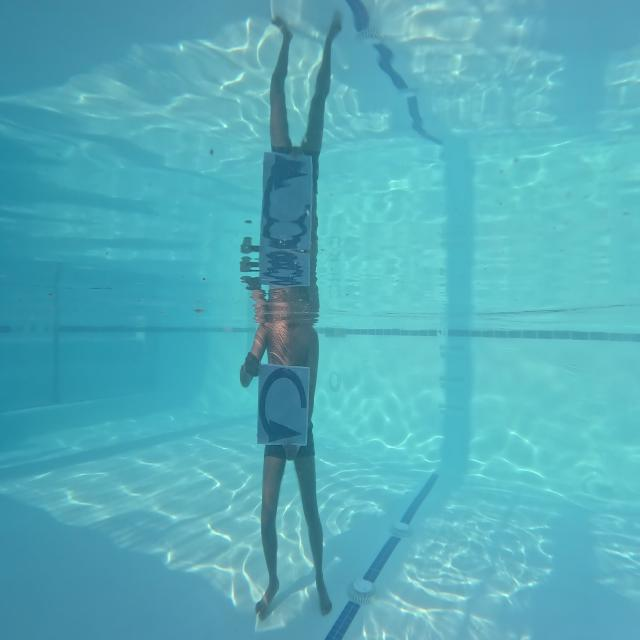blue_side: (249, 352, 318, 462)
